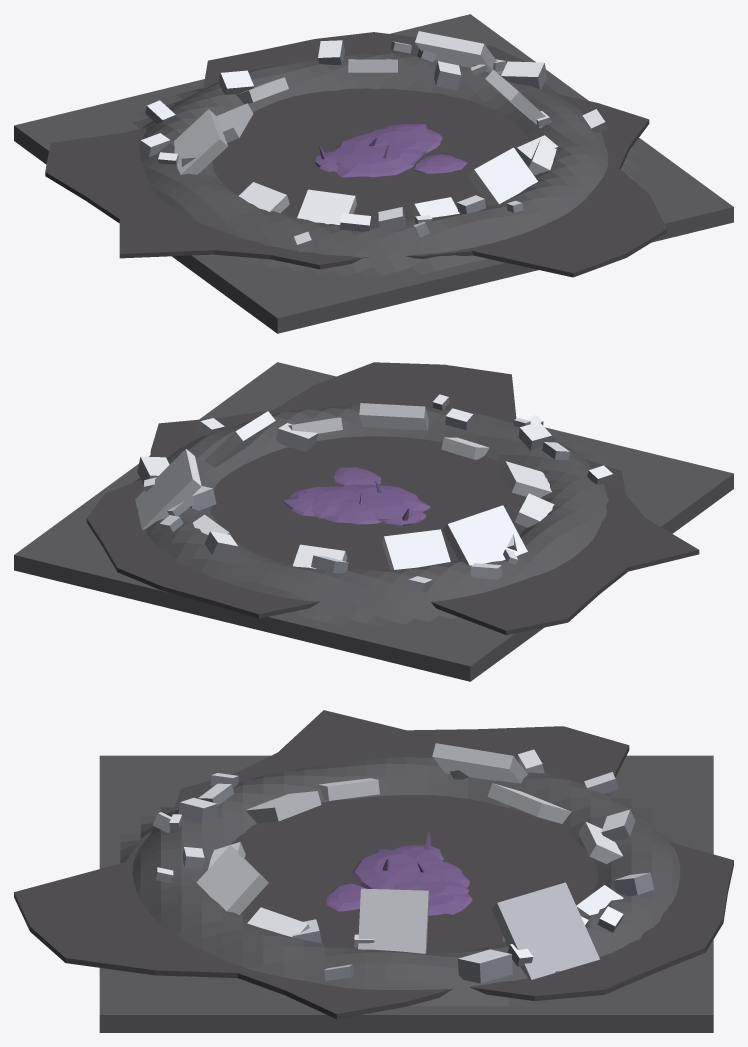
The model's file is PR_Cratera_A.fbx.
The picture shows the model from 3 angles, top to bottom: view 1: azimuth 30°, elevation 25°; view 2: azimuth 150°, elevation 25°; view 3: azimuth 270°, elevation 25°; orthographic projection. The views are drawn at different scales.
Parts seen in each view (by area): view 1: PR_Cratera_A; view 2: PR_Cratera_A; view 3: PR_Cratera_A.
Part boxes in pixels (<box>): PR_Cratera_A: <box>14,14,733,333</box>; PR_Cratera_A: <box>14,362,733,681</box>; PR_Cratera_A: <box>14,710,733,1032</box>.
Bounding box in the file's own units: 10.88 × 1.43 × 10.88.
